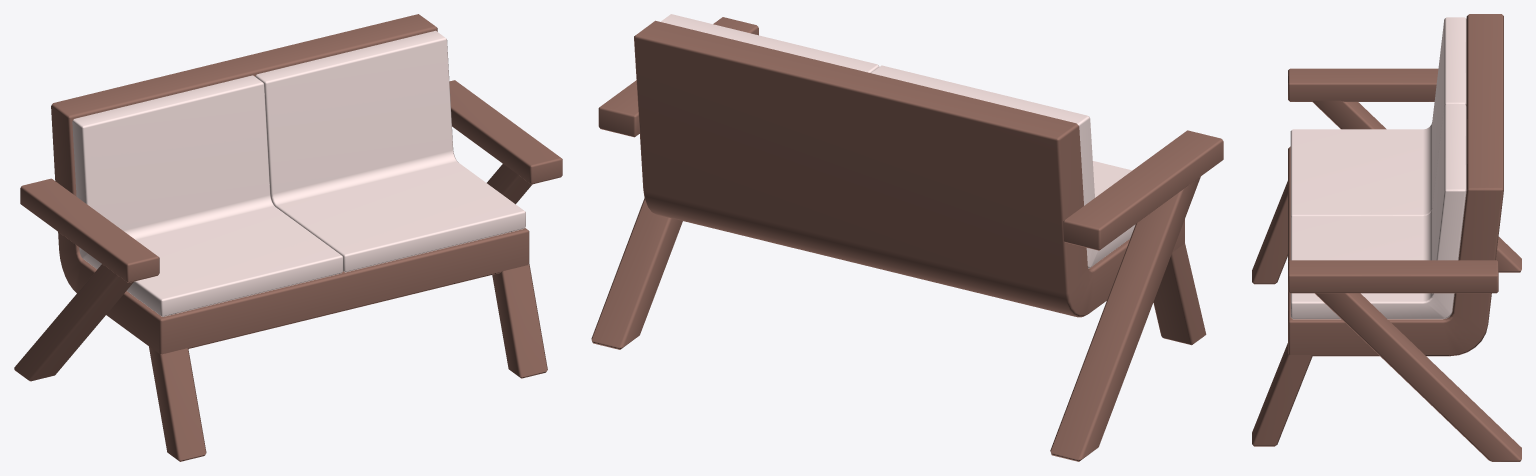
The model's file is Town_17_Bench_1.glb.
3 views of the same model, side by side, from view 1: azimuth 30°, elevation 25°; view 2: azimuth 150°, elevation 25°; view 3: azimuth 270°, elevation 25° (orthographic). The views are drawn at different scales.
Parts seen in each view (by area): view 1: Town_17_Bench_1; view 2: Town_17_Bench_1; view 3: Town_17_Bench_1.
Part boxes in pixels (x1=…): Town_17_Bench_1: x1=14, y1=14, x2=562, y2=461; Town_17_Bench_1: x1=591, y1=14, x2=1223, y2=461; Town_17_Bench_1: x1=1252, y1=14, x2=1521, y2=461.
Bounding box in the file's own units: 1.92 × 1.13 × 1.06.
1 material, 1 textured.
